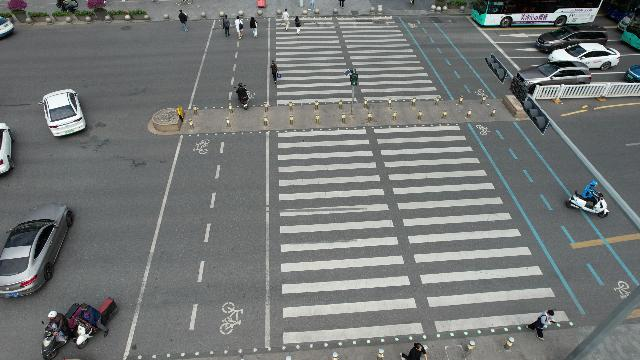non-motor-vehicle: (568, 177, 610, 221), (76, 302, 112, 338), (42, 311, 68, 353), (235, 84, 248, 108)
person: (528, 308, 554, 340), (396, 346, 434, 360), (177, 11, 190, 31), (234, 16, 243, 40), (282, 9, 292, 30), (270, 62, 280, 82), (222, 15, 230, 37), (294, 16, 302, 36), (250, 17, 256, 37), (339, 0, 345, 8), (310, 0, 314, 10)
